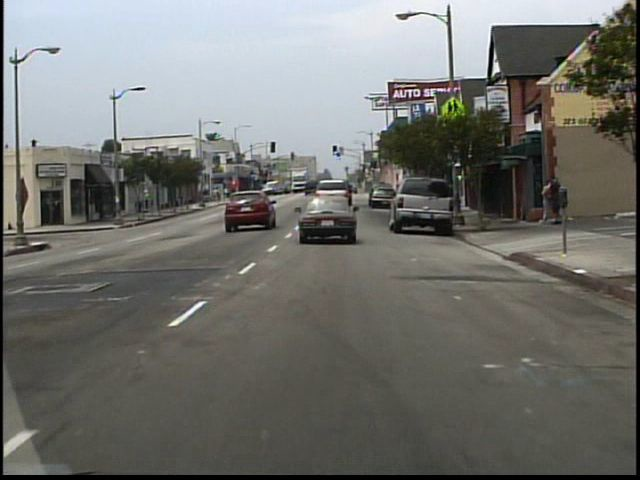person: (549, 174, 563, 224), (540, 178, 554, 225), (143, 188, 153, 214)
